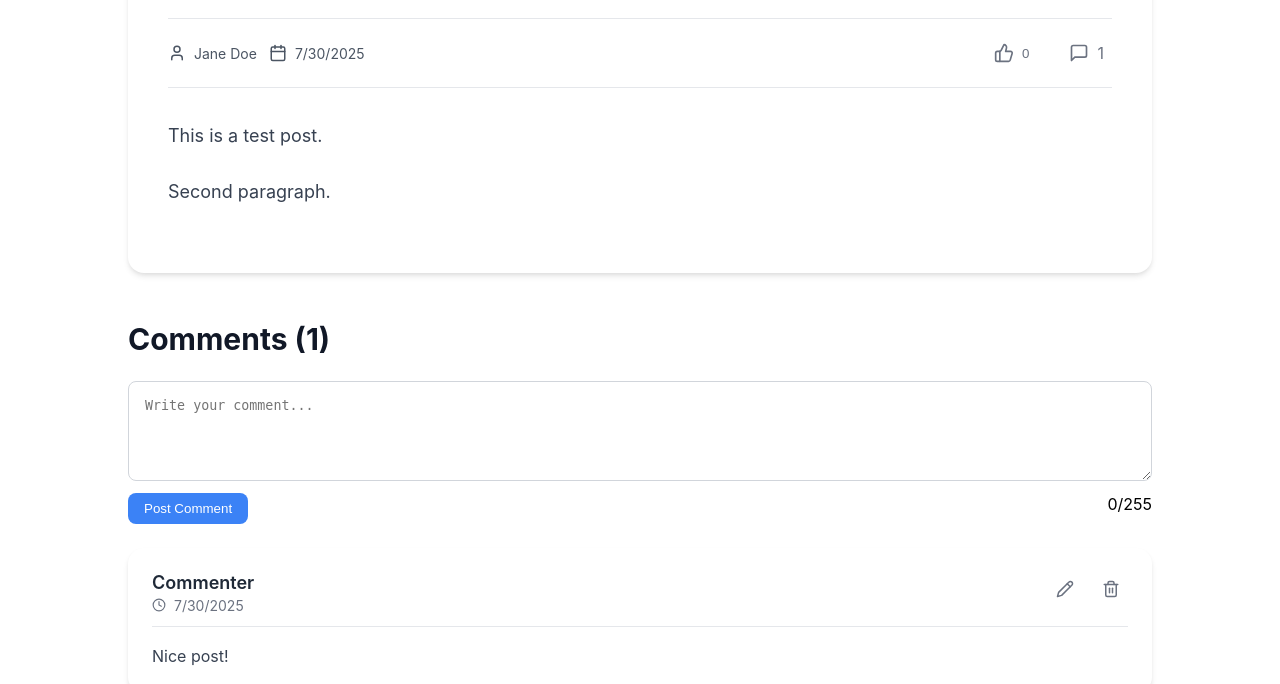
Test case: <Post /> › handles rapid comment edits correctly
(page scrolled)
// Start first edit
Step 1. Click the button named "Edit" → (1065, 590), box [1048,572,1082,609]
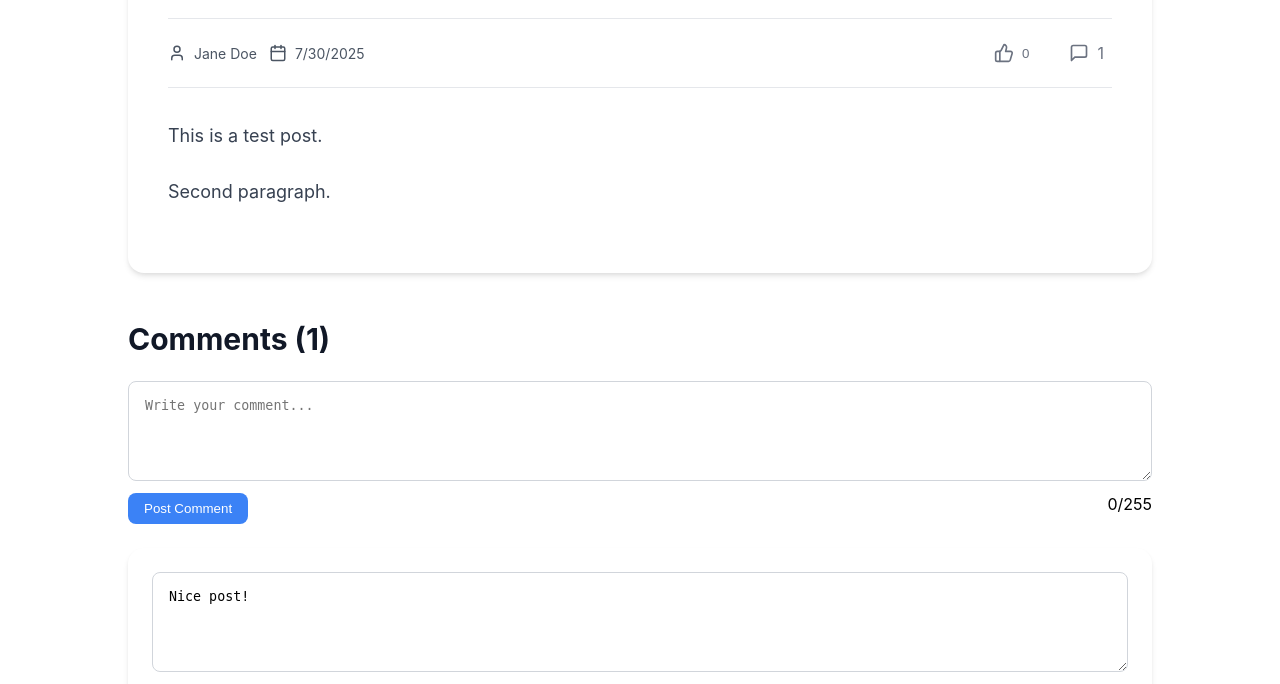
Step 2. Replace the text in the text box with test id "editInput" with "First edit" → (640, 622), box [152,572,1128,672]
(page scrolled)
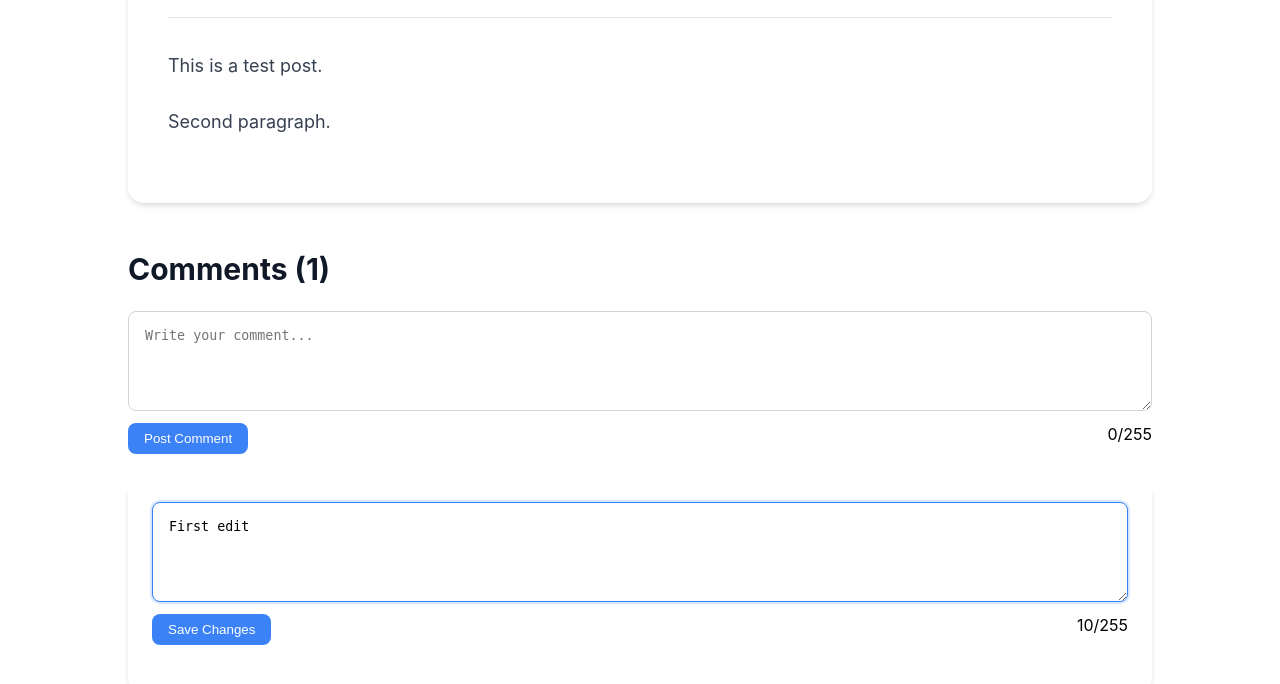
Step 3. Click the button "Save Changes" → (212, 629), box [152,614,271,645]
(page scrolled)
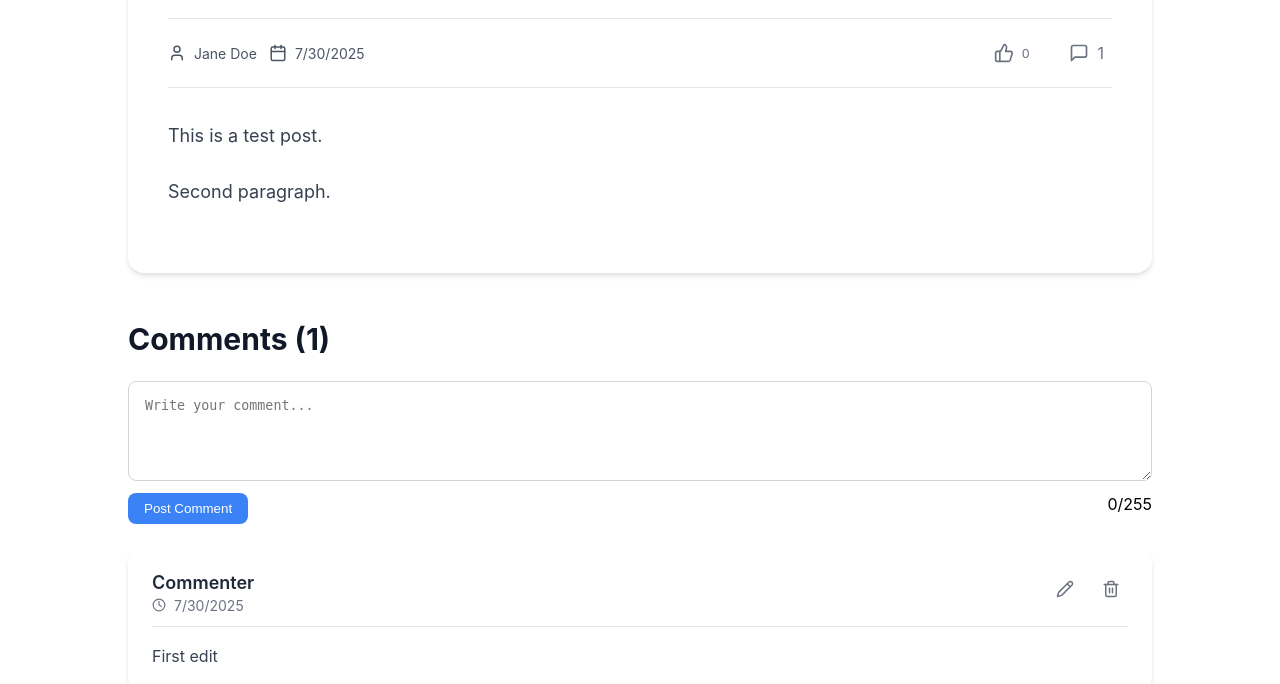
// Start second edit before first completes
Step 4. Click the button named "Edit" → (1065, 590), box [1048,572,1082,609]
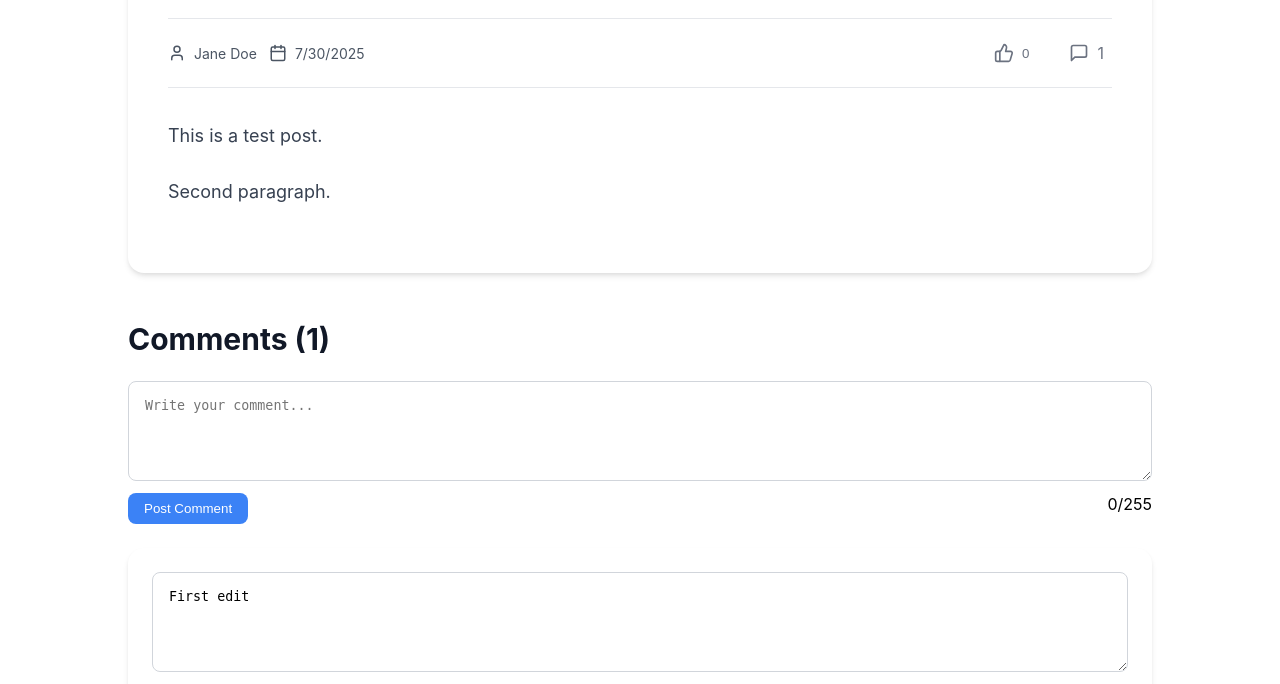
Step 5. Replace the text in the text box with test id "editInput" with "Second edit" → (640, 622), box [152,572,1128,672]
(page scrolled)
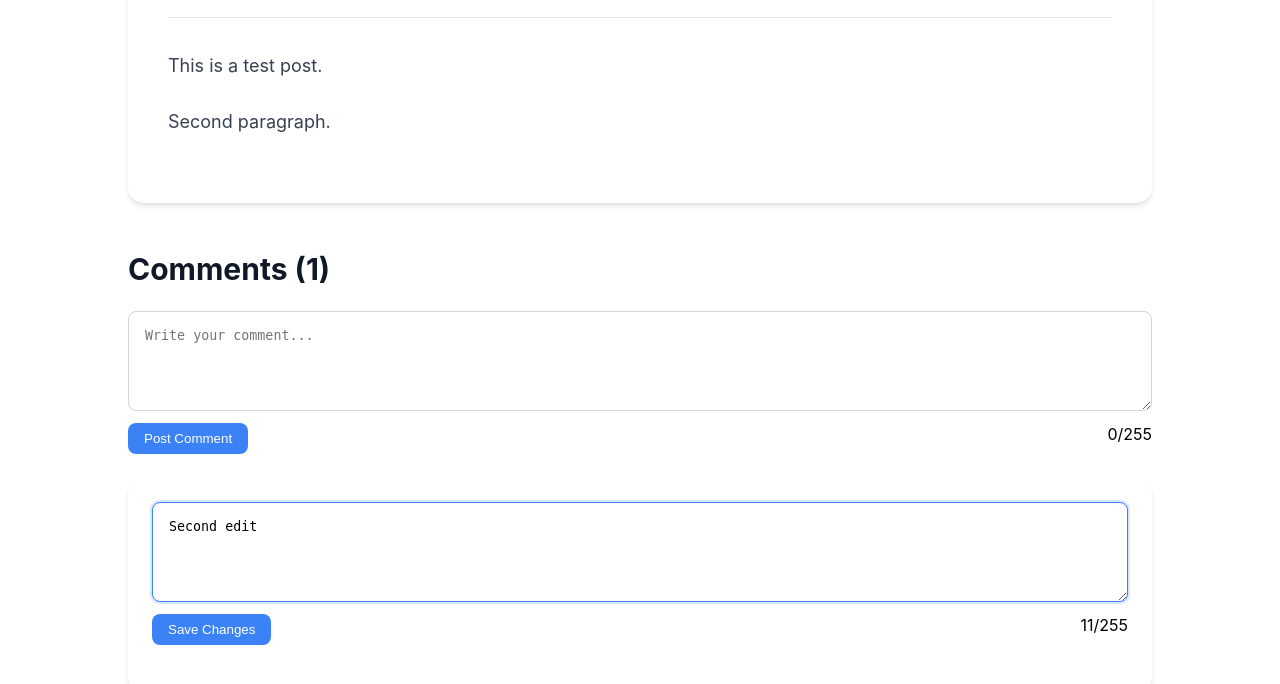
Step 6. Click the button "Save Changes" → (212, 629), box [152,614,271,645]
(page scrolled)
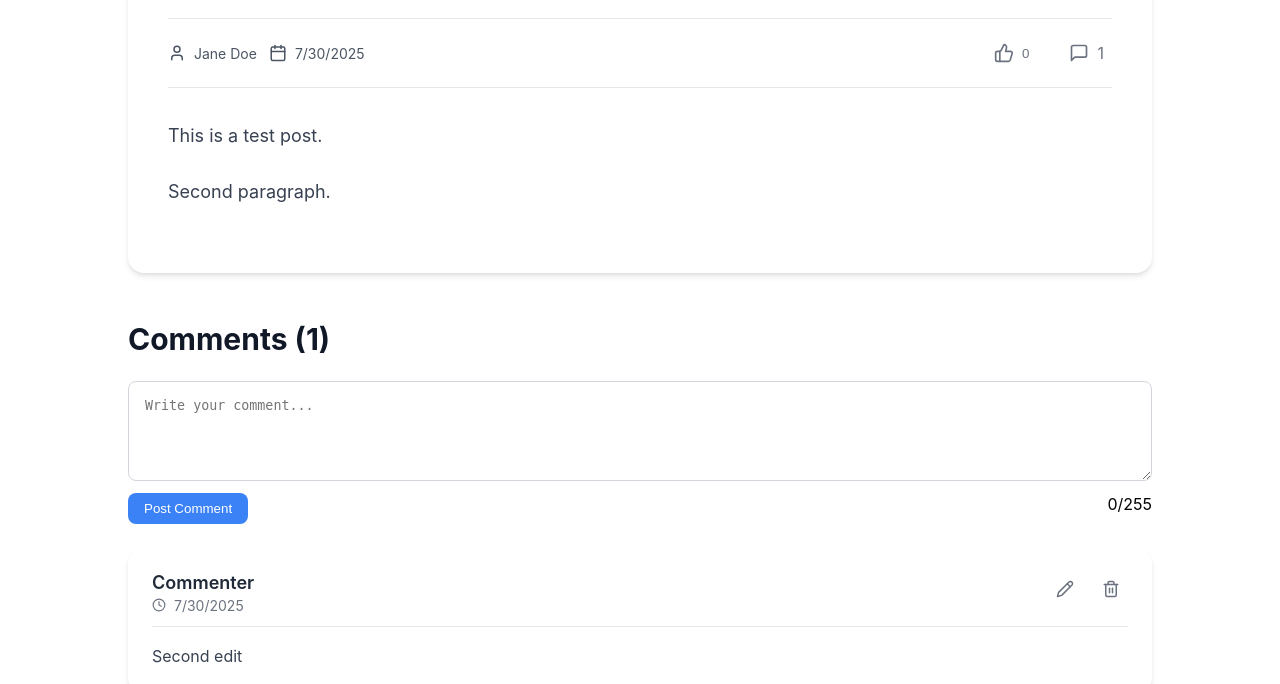
Expected: the text "First edit" is not shown
Result: the text "Second edit" is shown at [152,646,242,666]
